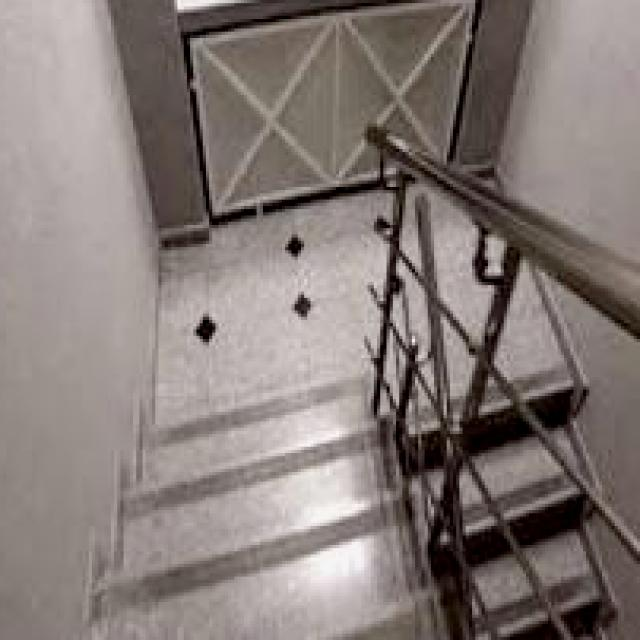downstair: (109, 410, 403, 609)
